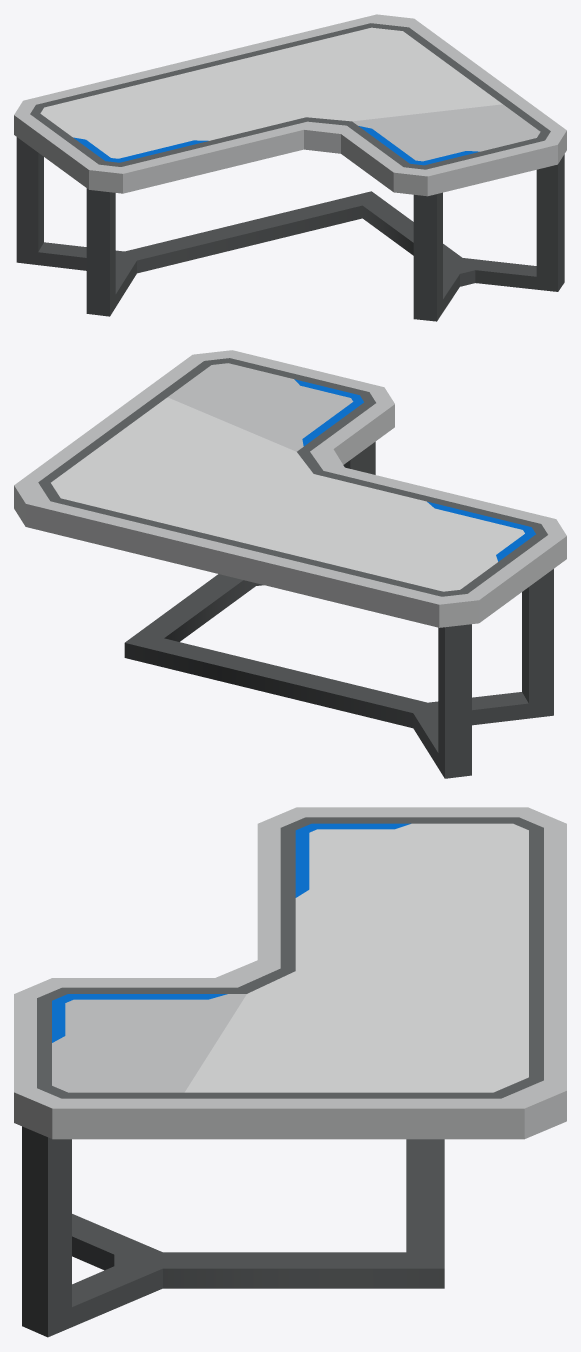
The model's file is Desk_027.glb.
3 views of the same model, one above another, from view 1: azimuth 30°, elevation 25°; view 2: azimuth 150°, elevation 25°; view 3: azimuth 270°, elevation 25° (orthographic). The views are drawn at different scales.
Parts seen in each view (by area): view 1: Desk_027; view 2: Desk_027; view 3: Desk_027.
Boxes of the visible parts, left/top/right/bottom form: Desk_027: left=14, top=14, right=566, bottom=321; Desk_027: left=14, top=350, right=566, bottom=778; Desk_027: left=14, top=807, right=566, bottom=1337.
Bounding box in the file's own units: 2.23 × 0.8017 × 1.73.
2 materials, 2 textured.
